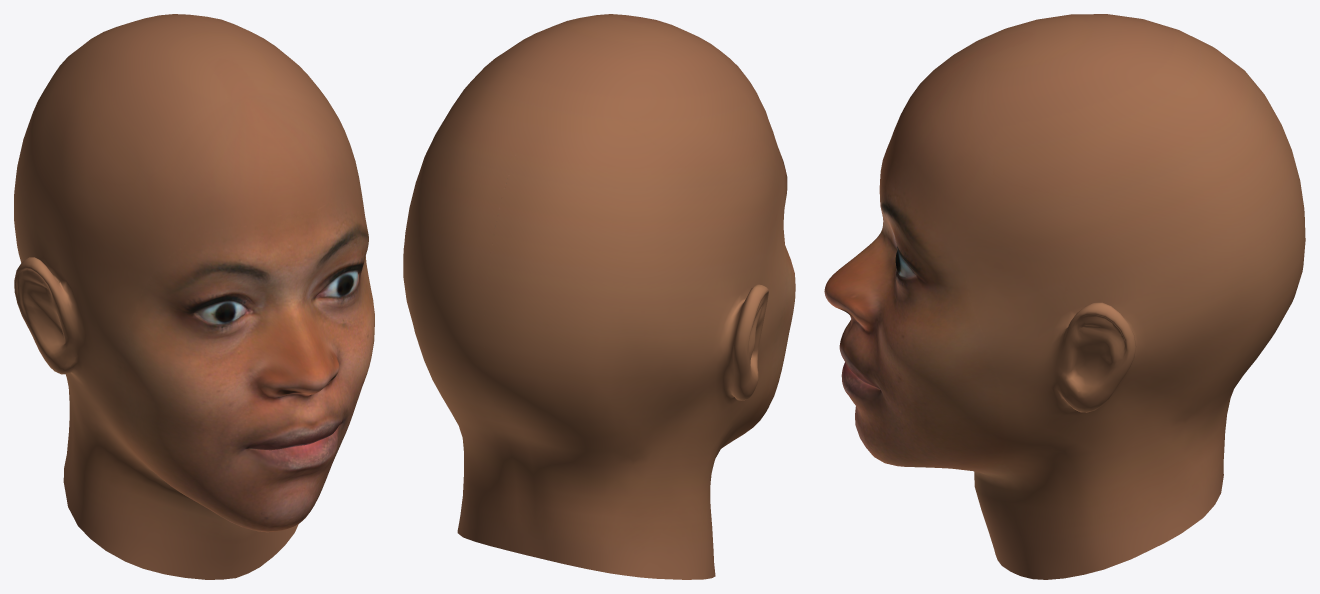
Rendered from v332_obj_ExpressionJawRight.obj.
3 renders of one model, left to right at view 1: azimuth 30°, elevation 25°; view 2: azimuth 150°, elevation 25°; view 3: azimuth 270°, elevation 25°, orthographic. The views are drawn at different scales.
Visible parts, largest first — view 1: HeadHires; view 2: HeadHires; view 3: HeadHires.
Part boxes in pixels (bbox=[...]): HeadHires: bbox=[14, 14, 374, 579]; HeadHires: bbox=[403, 14, 795, 579]; HeadHires: bbox=[824, 14, 1305, 579].
Size of the model in its own units: 187 by 282 by 233.
